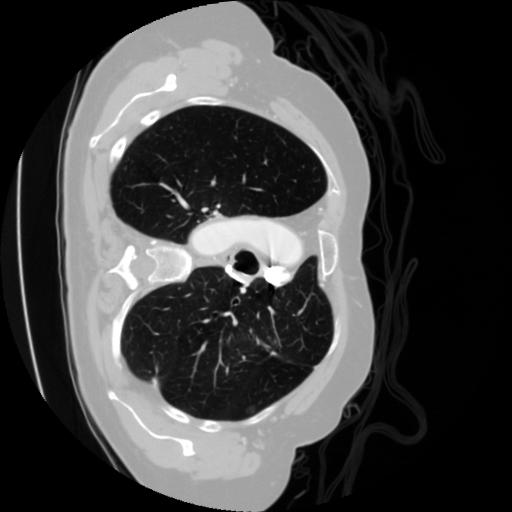nodule: (244, 404, 260, 420)
